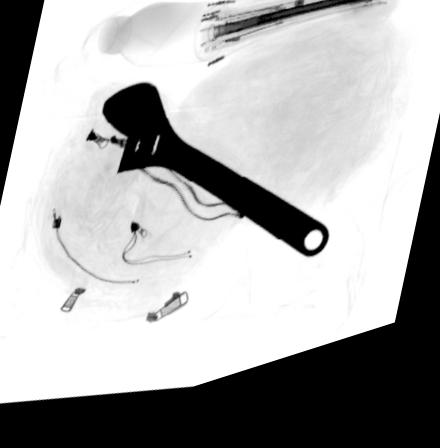Wrench: (99, 88, 329, 276)
